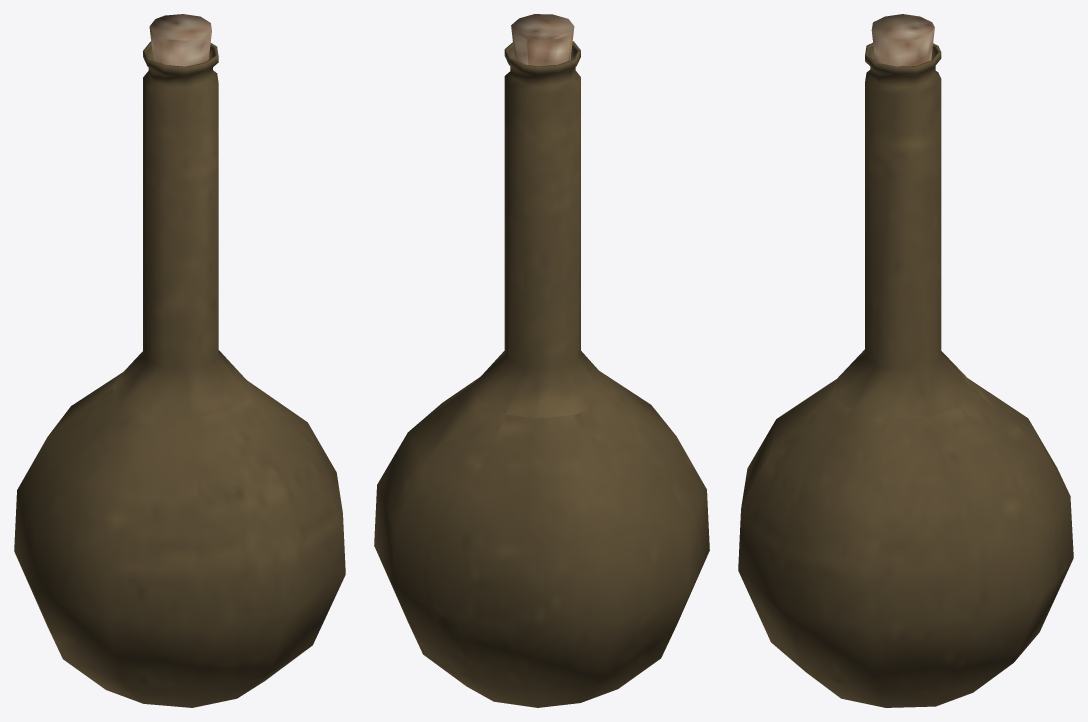
Rendered from MS_Bottle_2b.fbx.
3 views of the same model, side by side, from view 1: azimuth 30°, elevation 25°; view 2: azimuth 150°, elevation 25°; view 3: azimuth 270°, elevation 25° (orthographic).
Visible parts, largest first — view 1: MSH_Bottle_02; view 2: MSH_Bottle_02; view 3: MSH_Bottle_02.
Boxes of the visible parts, x1,y1,x2,y2 form: MSH_Bottle_02: (14, 14, 345, 707); MSH_Bottle_02: (374, 14, 709, 707); MSH_Bottle_02: (738, 14, 1073, 707).
Size of the model in its own units: 8.04 by 17.08 by 8.05.
